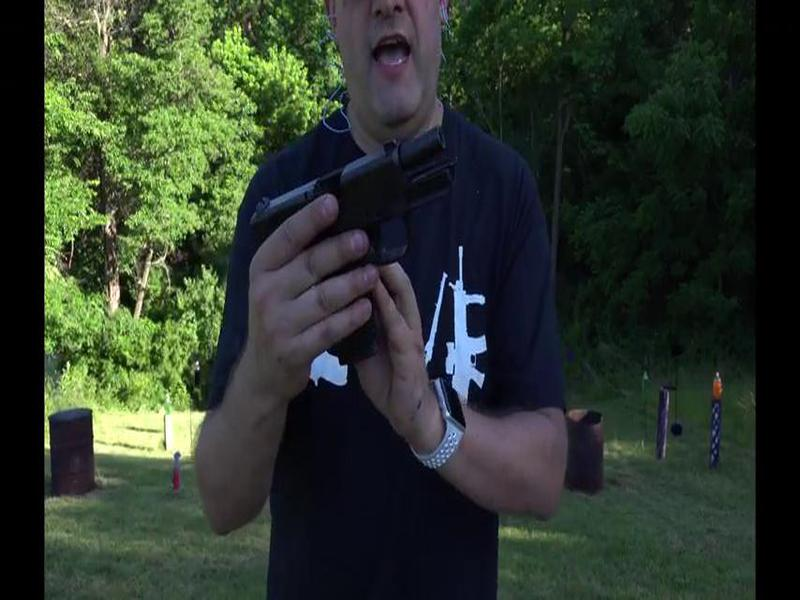Pistola: (239, 132, 473, 374)
